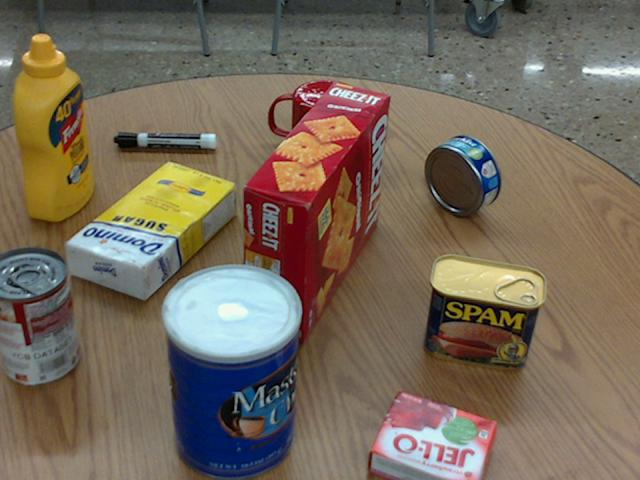cracker_box: (245, 82, 389, 339)
gelatin_box: (368, 390, 498, 479)
large_marker: (114, 131, 215, 148)
master_chef_can: (162, 265, 300, 479)
mug: (270, 80, 359, 172)
mustard_bottle: (16, 35, 92, 220)
potted_meat_can: (423, 253, 545, 369)
sugar_box: (64, 160, 236, 300)
tomato_soup_can: (0, 246, 78, 383)
tuna_fish_can: (423, 135, 499, 214)
